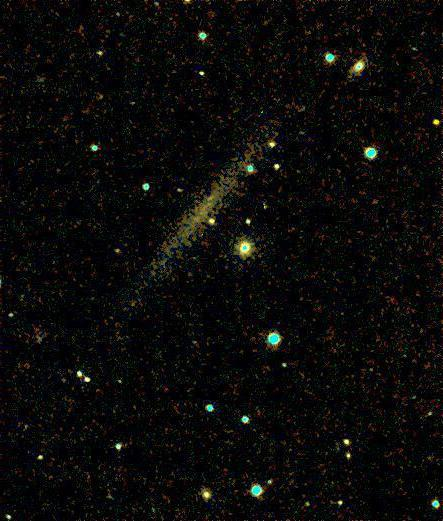star: (420, 108, 443, 138)
